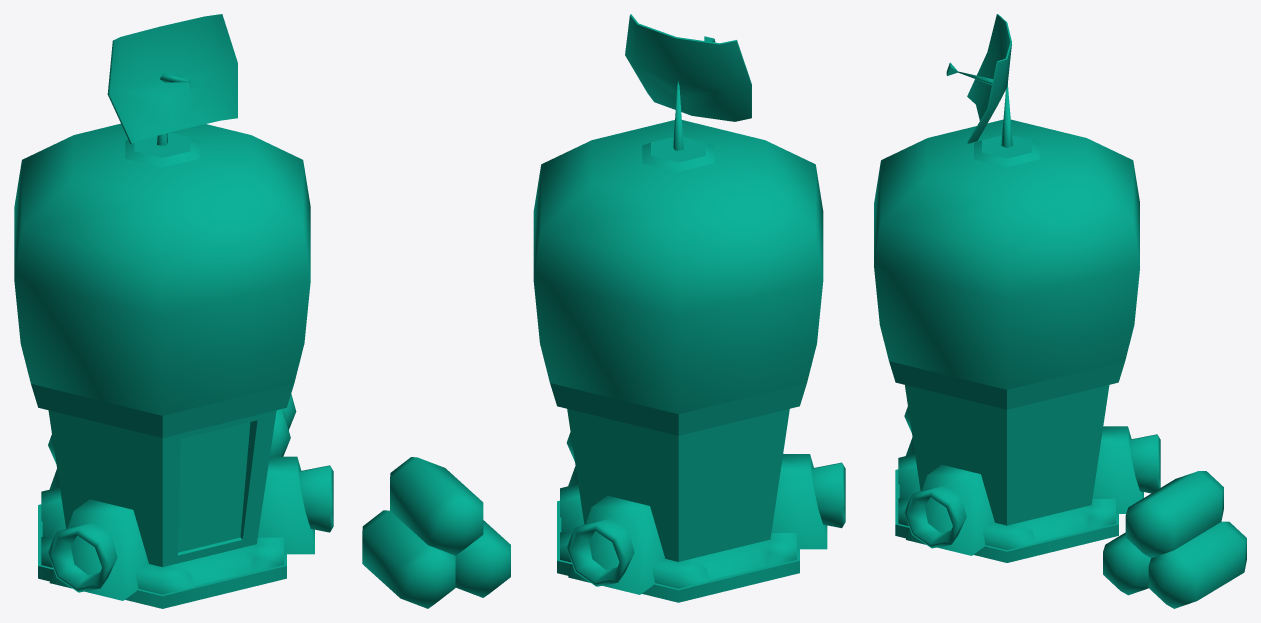
The model's file is (TO TEX) - Command Center -- Low (MAP).FBX.
The picture shows the model from 3 angles, left to right: view 1: azimuth 30°, elevation 25°; view 2: azimuth 150°, elevation 25°; view 3: azimuth 270°, elevation 25°; orthographic projection. The views are drawn at different scales.
Visible parts, largest first — view 1: Glass Dome, Building, Antenna, Construction Base; view 2: Glass Dome, Building, Antenna, Construction Base; view 3: Glass Dome, Building, Antenna, Construction Base.
Boxes of the visible parts, x1=… form: Glass Dome: x1=14, y1=123, x2=310, y2=415; Building: x1=31, y1=132, x2=333, y2=600; Antenna: x1=107, y1=14, x2=237, y2=143; Construction Base: x1=38, y1=504, x2=286, y2=608; Glass Dome: x1=533, y1=120, x2=823, y2=414; Building: x1=362, y1=81, x2=845, y2=608; Antenna: x1=625, y1=14, x2=751, y2=121; Construction Base: x1=557, y1=500, x2=799, y2=602; Glass Dome: x1=874, y1=119, x2=1139, y2=389; Building: x1=889, y1=83, x2=1246, y2=608; Antenna: x1=946, y1=14, x2=1011, y2=143; Construction Base: x1=895, y1=469, x2=1118, y2=562.
Size of the model in its own units: 96.79 by 133 by 93.26.
